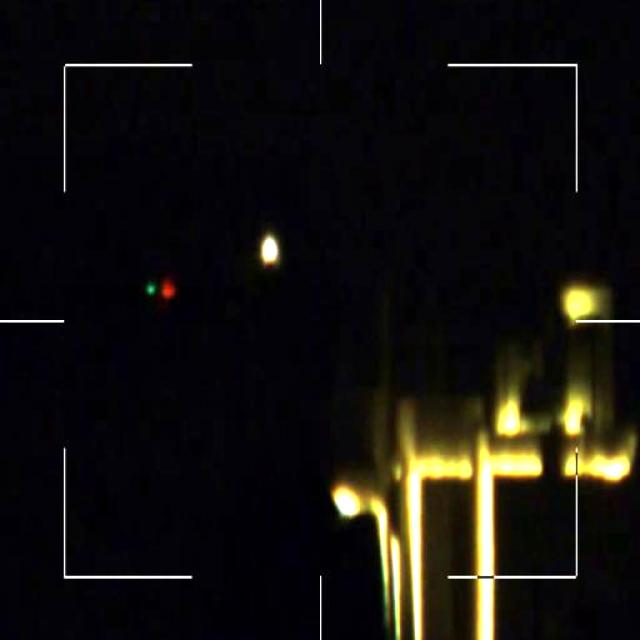bird: (144, 272, 178, 310)
